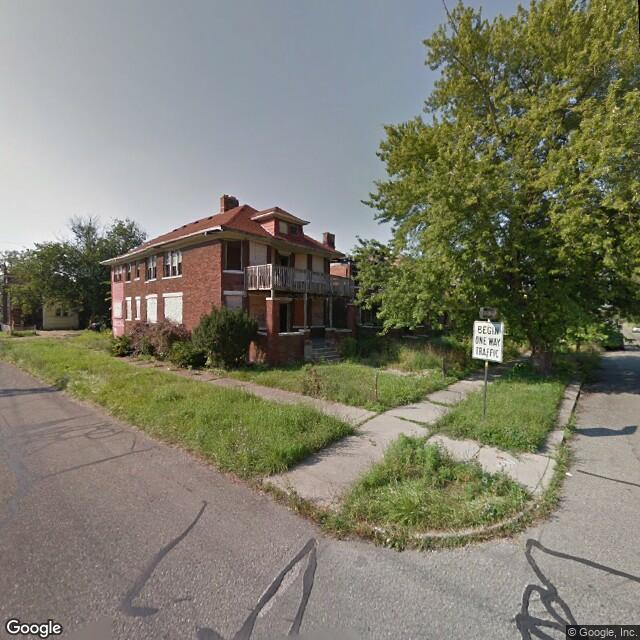litter: (559, 468, 579, 480)
